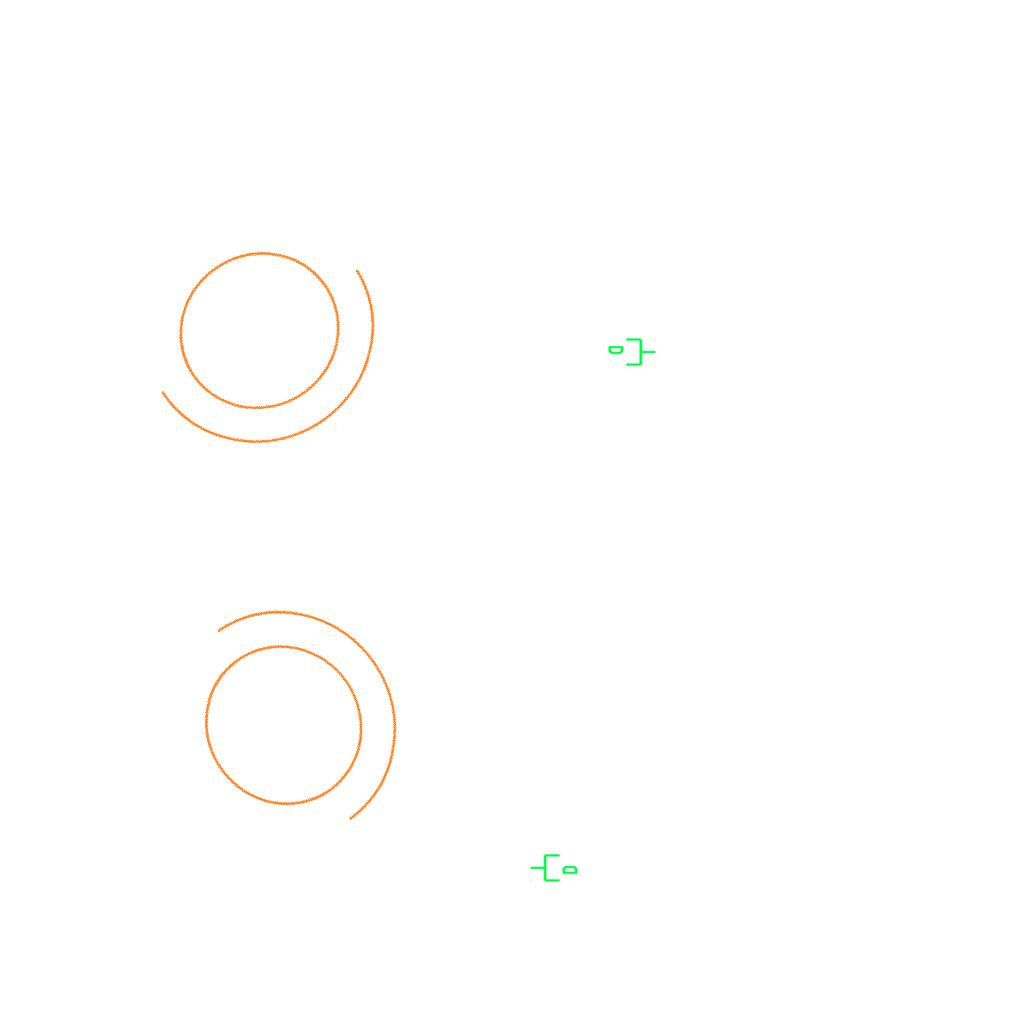Datenanschluss_einfach: (529, 850, 579, 884), (607, 336, 657, 370)
Scheinwerfer_fuer_Alarmbeleuchtung: (120, 541, 456, 888), (98, 170, 442, 501)
